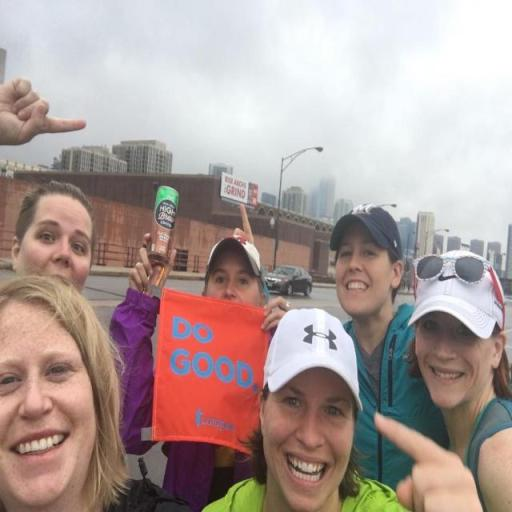Under Armour: (302, 322, 338, 352)
